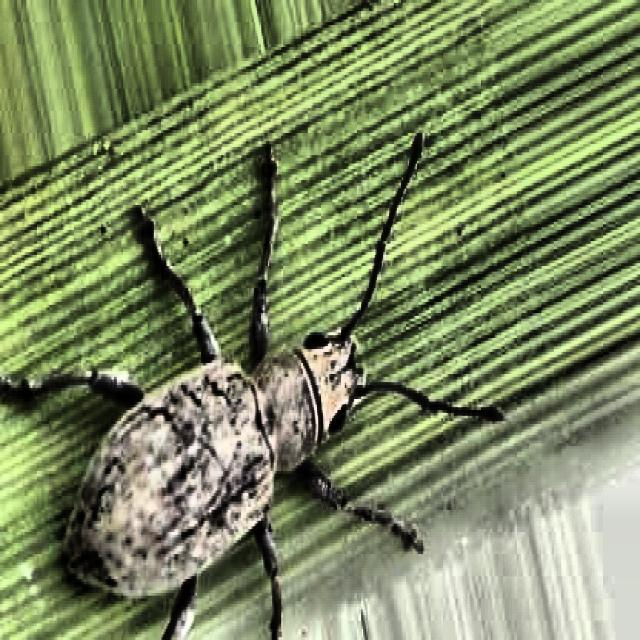Stink bug: (43, 202, 412, 640)
